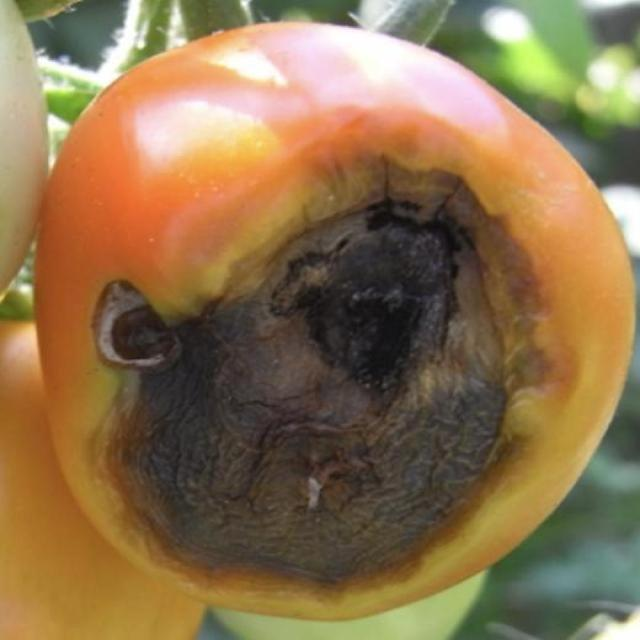Blossom End Rot Fruit: (59, 93, 373, 414)
